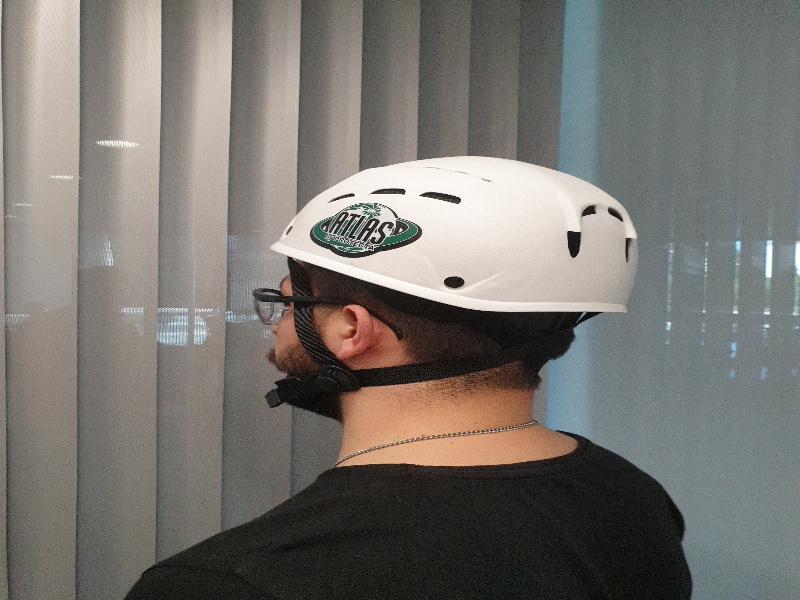Baret: (271, 156, 640, 316)
